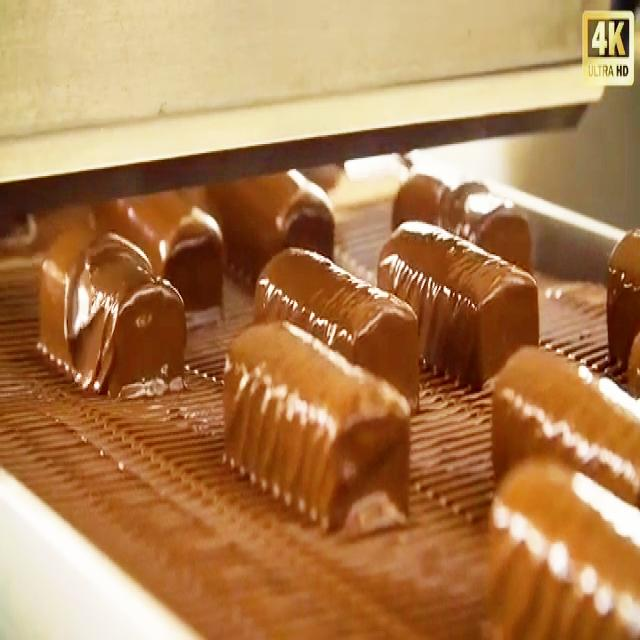Choco: (220, 315, 412, 533), (255, 230, 427, 420), (376, 208, 542, 396), (477, 456, 640, 636), (483, 320, 640, 505), (38, 221, 189, 405), (396, 157, 536, 287), (119, 198, 237, 312), (236, 169, 340, 295), (605, 209, 640, 378)
